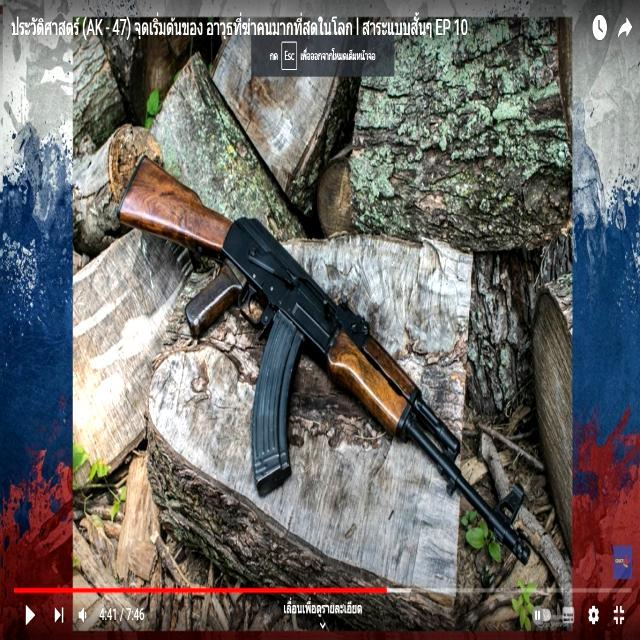ak: (119, 153, 535, 570)
